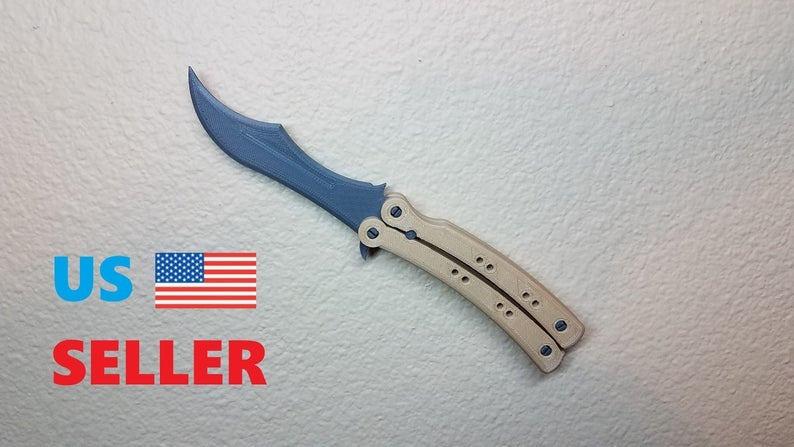knife: (184, 66, 609, 375)
